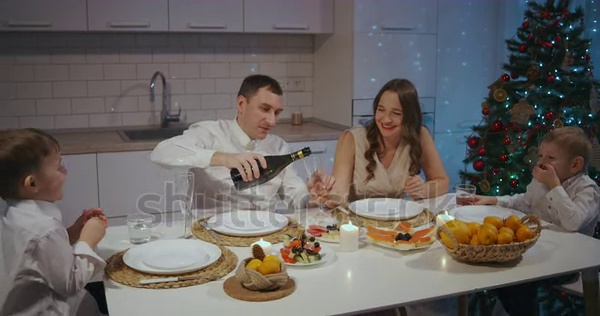No Mask: (3, 127, 74, 207), (533, 121, 594, 185), (234, 73, 287, 141), (374, 82, 414, 139)
